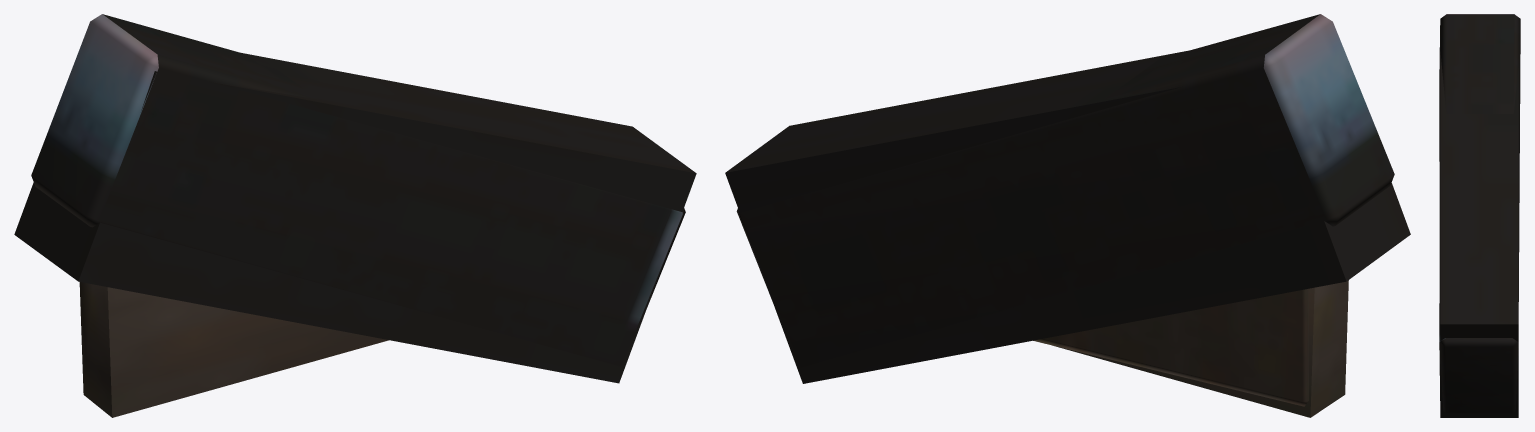
The model's file is ashwood_wall_roof_26.glb.
3 renders of one model, left to right at view 1: azimuth 30°, elevation 25°; view 2: azimuth 150°, elevation 25°; view 3: azimuth 270°, elevation 25°, orthographic. The views are drawn at different scales.
Visible parts, largest first — view 1: geometry_0; view 2: geometry_0; view 3: geometry_0.
Boxes of the visible parts, <box> form: geometry_0: <box>14,14,696,417</box>; geometry_0: <box>725,14,1410,417</box>; geometry_0: <box>1439,14,1520,417</box>.
Bounding box in the file's own units: 2.36 × 1.59 × 0.4407.
1 material, 1 textured.
